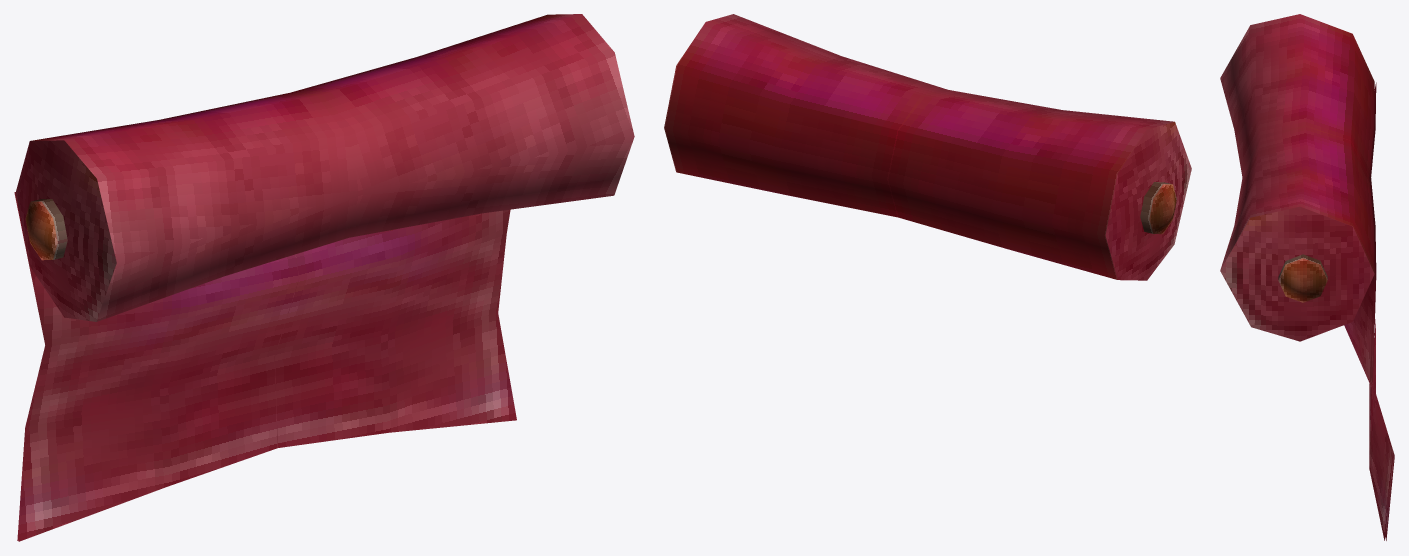
Rendered from DimensionCloth.glb.
The picture shows the model from 3 angles, left to right: view 1: azimuth 30°, elevation 25°; view 2: azimuth 150°, elevation 25°; view 3: azimuth 270°, elevation 25°; orthographic projection. The views are drawn at different scales.
Visible parts, largest first — view 1: model_DimensionCloth; view 2: model_DimensionCloth; view 3: model_DimensionCloth.
Part boxes in pixels (left/top/right/bottom): model_DimensionCloth: left=14, top=14, right=634, bottom=541; model_DimensionCloth: left=664, top=14, right=1191, bottom=280; model_DimensionCloth: left=1220, top=14, right=1394, bottom=540.
Size of the model in its own units: 0.3748 by 0.2733 by 0.1277.
Materials: 1 (1 with a texture image).
